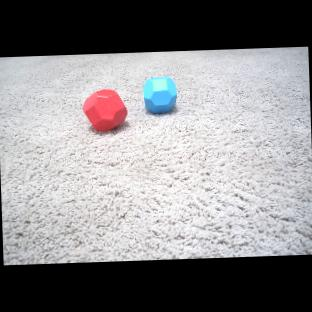V5_BLUE: (142, 75, 178, 112)
V5_RED: (84, 89, 129, 133)
